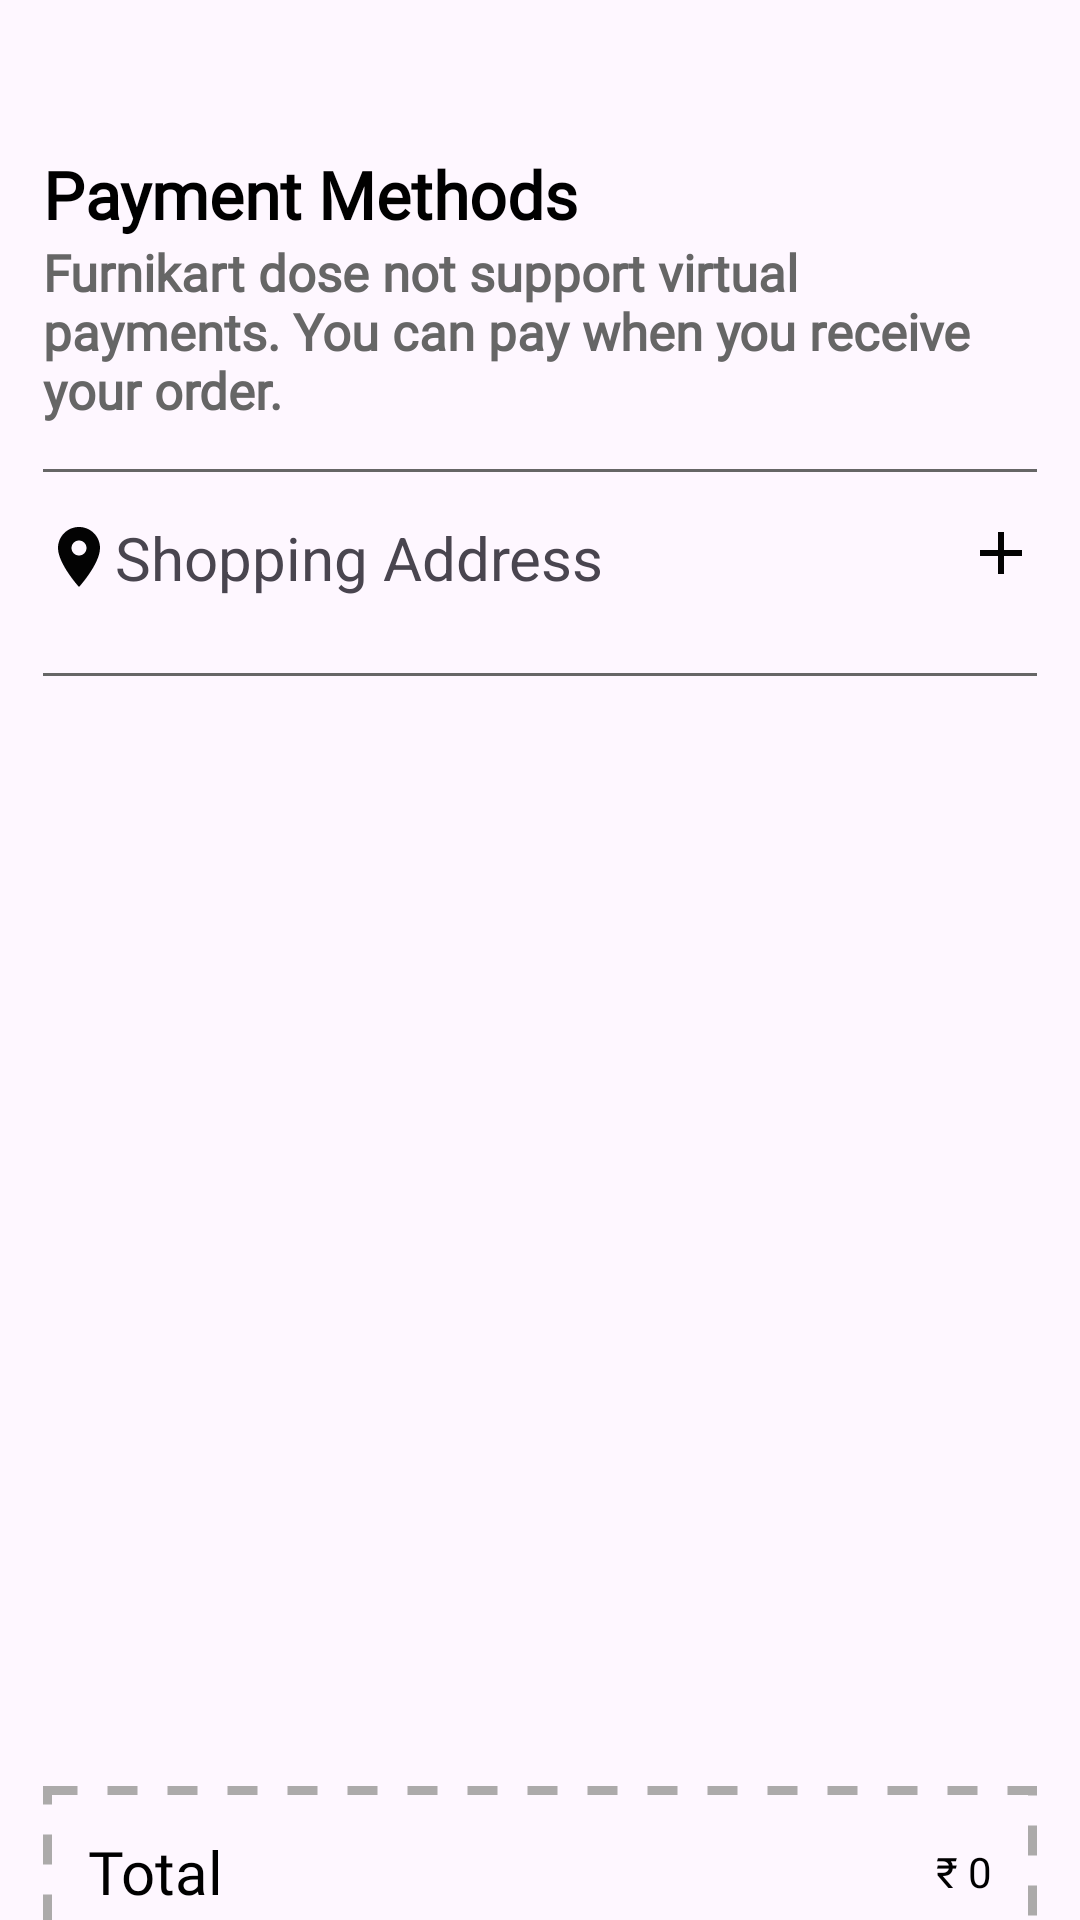

Point at icon controls on the screen. Image size 1080x1920, points as [x,y].
add: [1001,553]
